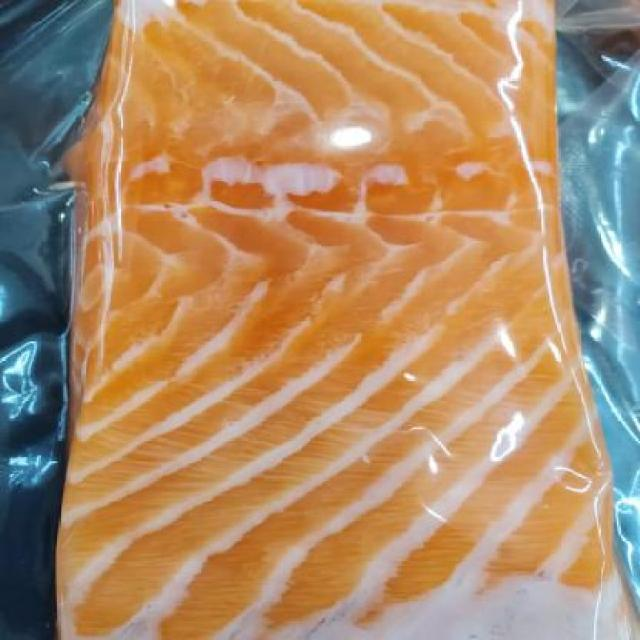salmon: (38, 1, 638, 640)
